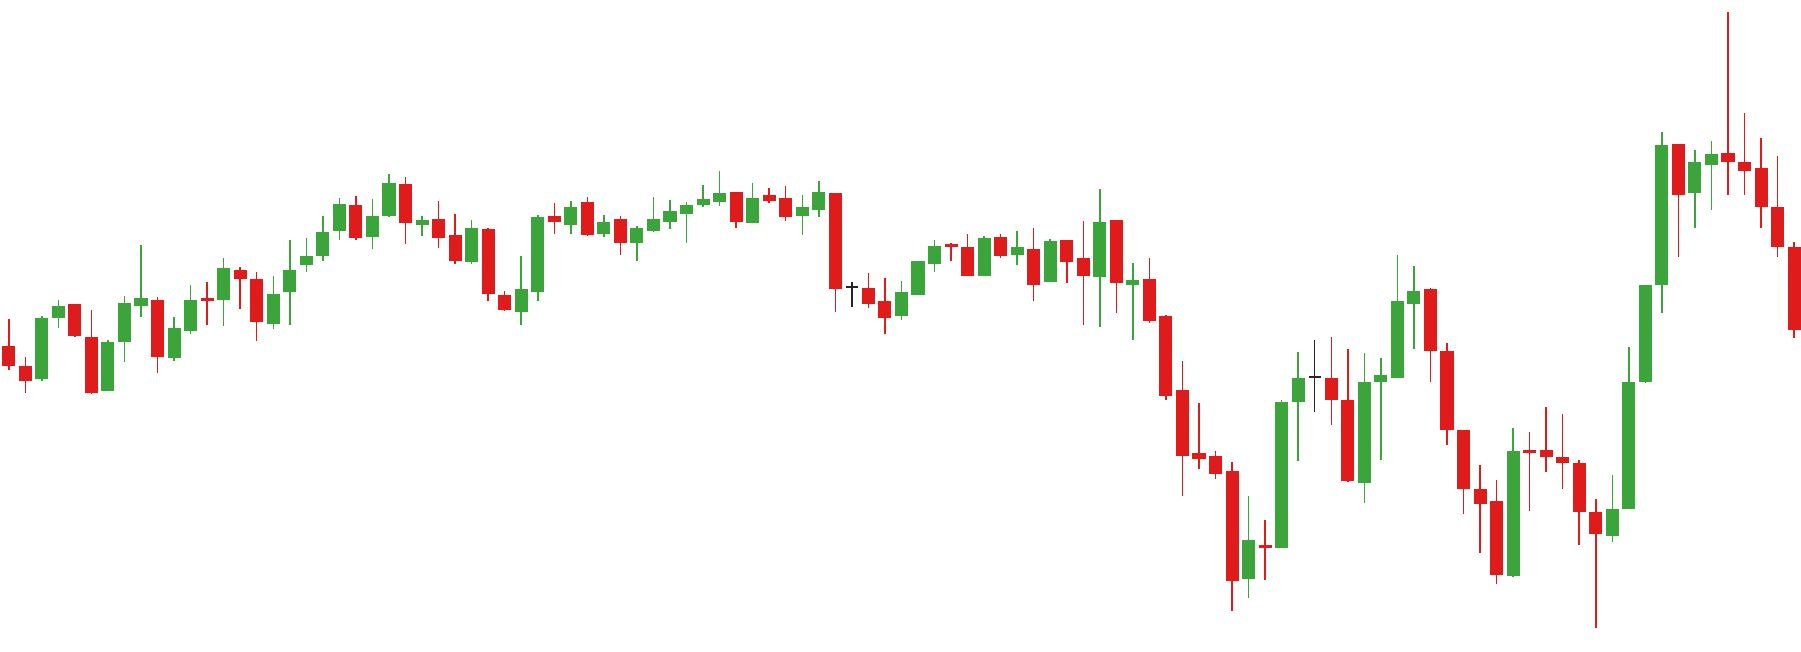buy: (1490, 469, 1606, 629), (21, 325, 117, 399)
sell: (1305, 254, 1438, 407), (1025, 192, 1126, 289)
